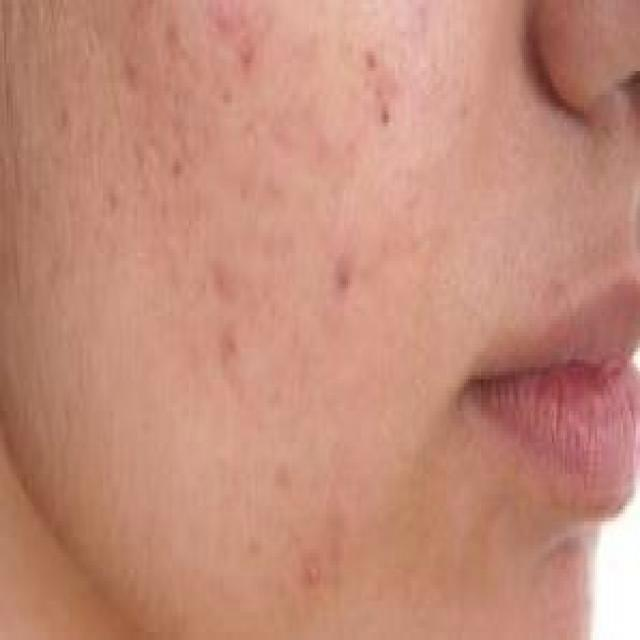Pimples: (217, 319, 234, 372), (210, 252, 230, 296), (333, 245, 350, 292), (163, 12, 180, 52), (238, 40, 254, 68), (380, 102, 393, 134), (305, 557, 322, 581), (101, 190, 120, 210), (275, 454, 286, 482), (58, 98, 69, 126), (366, 44, 374, 76)
